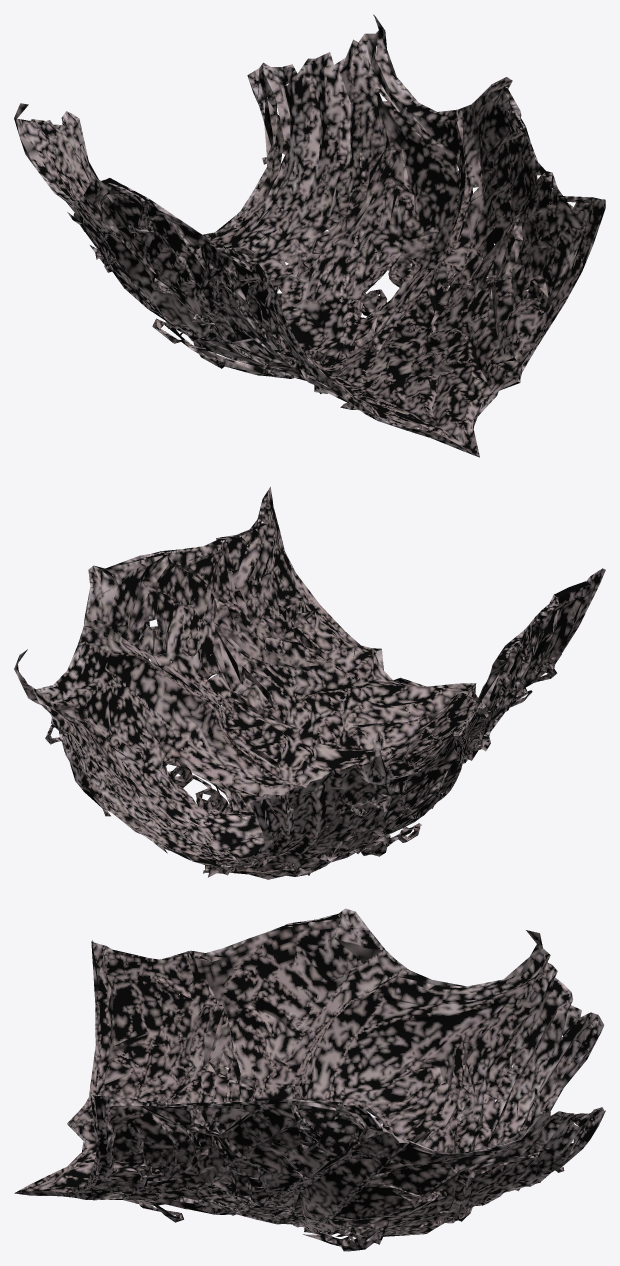
The model's file is vampire_chestplate_LOD1.glb.
The picture shows the model from 3 angles, top to bottom: view 1: azimuth 30°, elevation 25°; view 2: azimuth 150°, elevation 25°; view 3: azimuth 270°, elevation 25°; orthographic projection. The views are drawn at different scales.
Visible parts, largest first — view 1: vampire_chestplate_LOD1; view 2: vampire_chestplate_LOD1; view 3: vampire_chestplate_LOD1.
Part boxes in pixels (<box>): vampire_chestplate_LOD1: <box>14,14,605,457</box>; vampire_chestplate_LOD1: <box>14,486,605,879</box>; vampire_chestplate_LOD1: <box>14,908,605,1251</box>.
Size of the model in its own units: 0.5914 by 0.3329 by 0.7757.
Materials: 1 (1 with a texture image).
